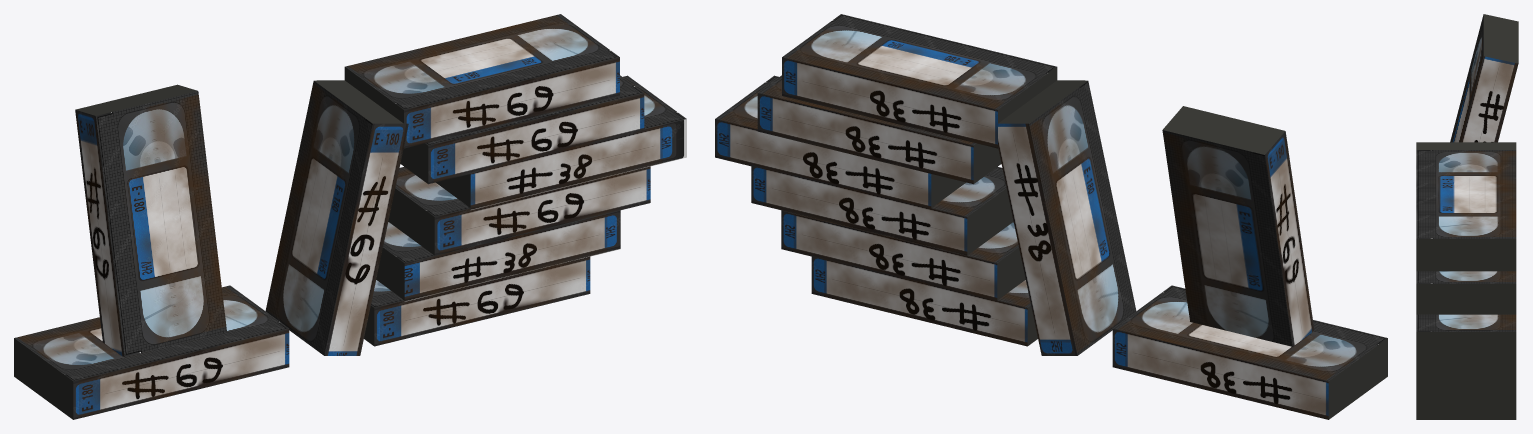
The model's file is videotape.glb.
3 views of the same model, side by side, from view 1: azimuth 30°, elevation 25°; view 2: azimuth 150°, elevation 25°; view 3: azimuth 270°, elevation 25° (orthographic). The views are drawn at different scales.
Visible parts, largest first — view 1: Cube.005; view 2: Cube.005; view 3: Cube.005.
Boxes of the visible parts, bbox=[...] form: Cube.005: bbox=[14, 14, 686, 419]; Cube.005: bbox=[715, 14, 1387, 419]; Cube.005: bbox=[1416, 14, 1518, 419].
Bounding box in the file's own units: 0.5369 × 0.2221 × 0.0918.
3 materials, 2 textured.
